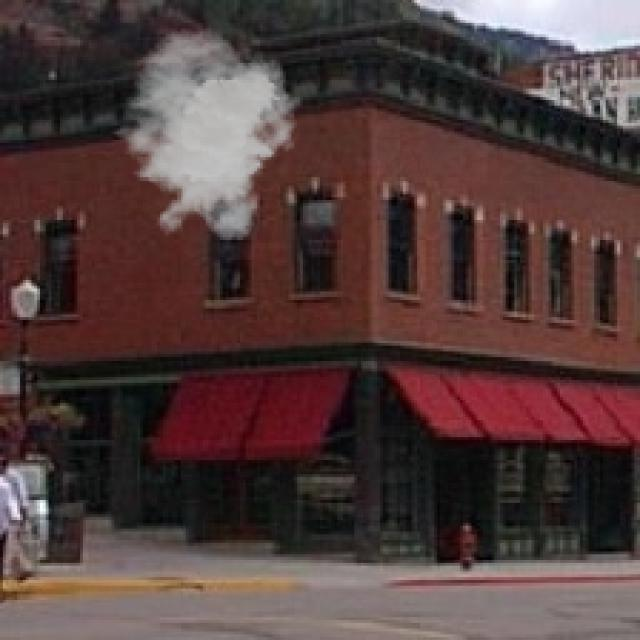smoke: (103, 28, 303, 243)
